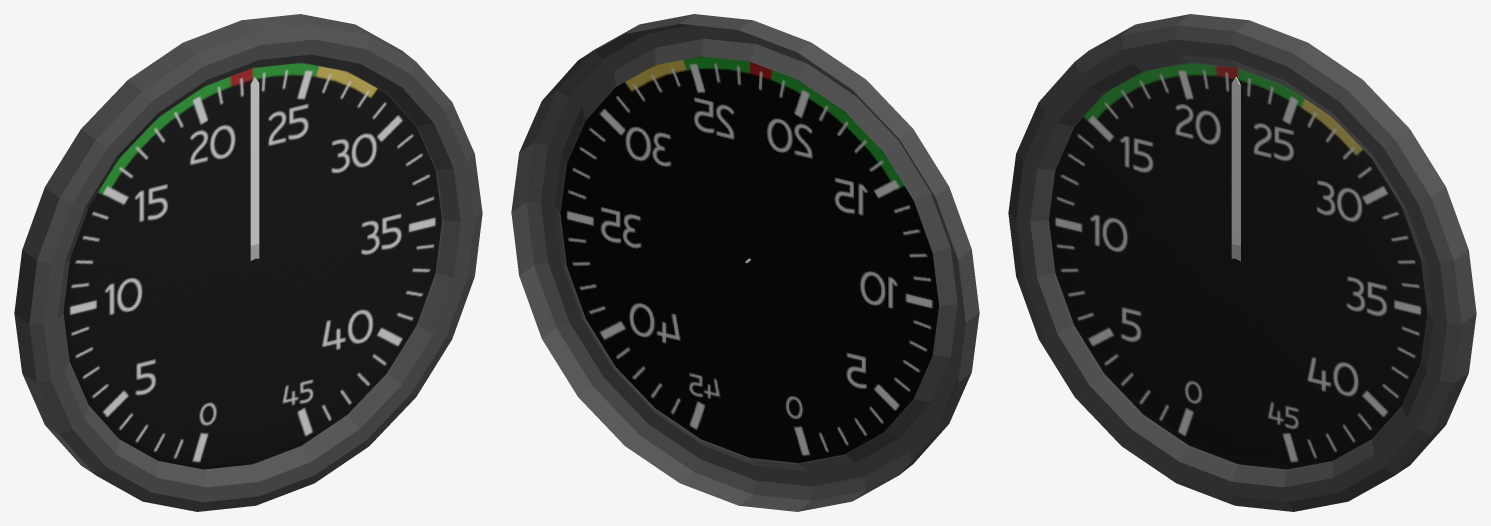
Rendered from Gauge_RPM.obj.
3 views of the same model, side by side, from view 1: azimuth 30°, elevation 25°; view 2: azimuth 150°, elevation 25°; view 3: azimuth 330°, elevation 25° (orthographic).
Parts seen in each view (by area): view 1: Face, Rim, NeedleMain; view 2: Face, Rim; view 3: Face, Rim, NeedleMain.
Boxes of the visible parts, x1,y1,x2,y2 form: Face: [63, 63, 441, 469]; Rim: [14, 14, 482, 511]; NeedleMain: [250, 77, 259, 245]; Face: [560, 56, 938, 462]; Rim: [511, 14, 979, 511]; Face: [1049, 63, 1427, 469]; Rim: [1008, 14, 1476, 511]; NeedleMain: [1231, 77, 1240, 245].
Size of the model in its own units: 0.0822 by 0.0822 by 0.00794.
